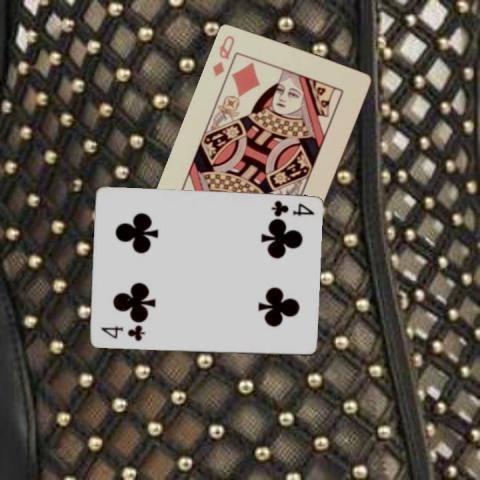4c: (98, 322, 147, 343), (268, 198, 316, 218)
Qd: (210, 33, 236, 77)
